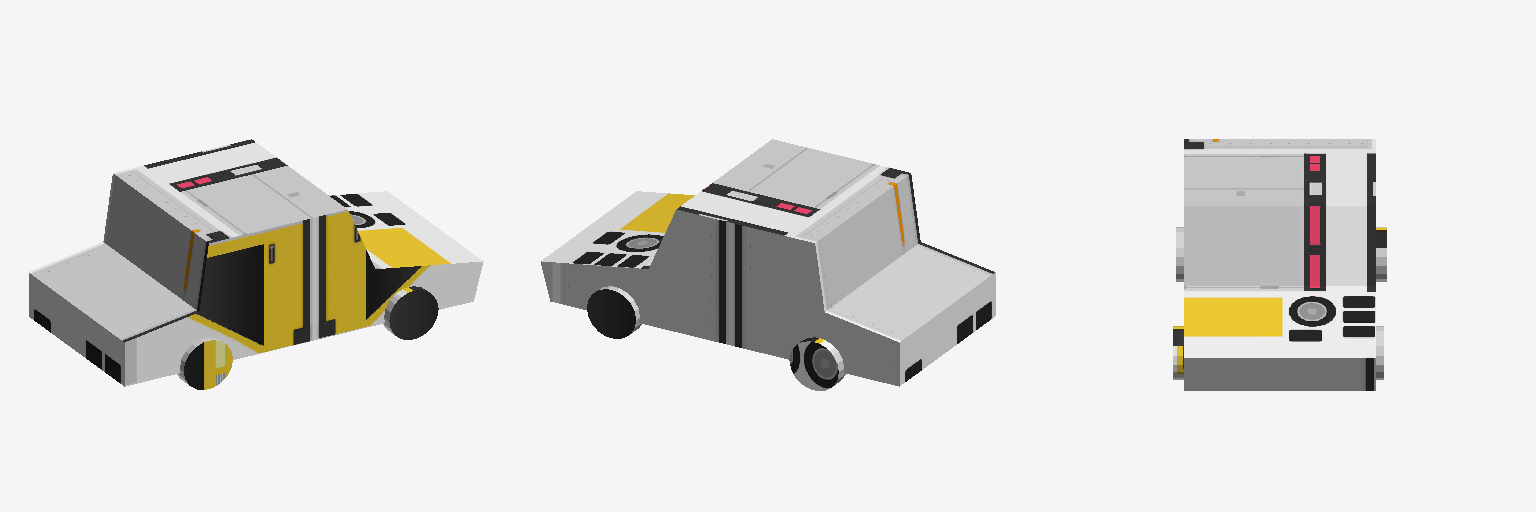
3 renders of one model, left to right at view 1: azimuth 30°, elevation 25°; view 2: azimuth 150°, elevation 25°; view 3: azimuth 270°, elevation 25°, orthographic.
Bounding box in the file's own units: 11.48 × 4.34 × 5.91.
1 materials, 1 textured.